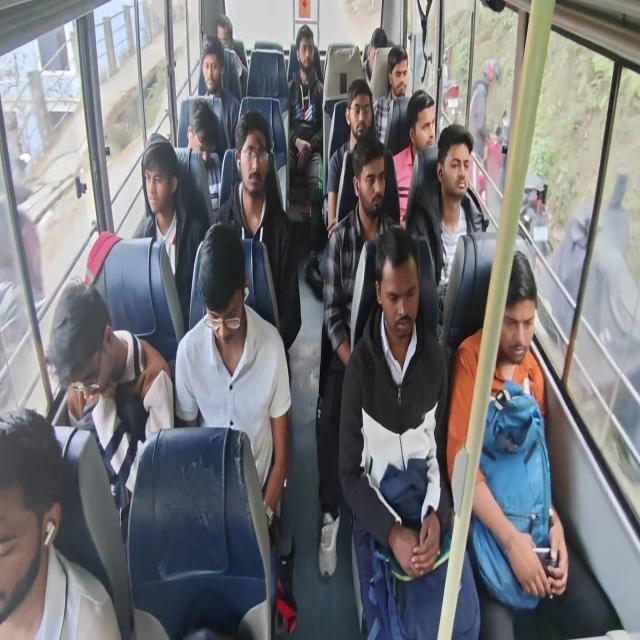person: (0, 423, 59, 588), (57, 310, 114, 406), (196, 259, 252, 352), (370, 249, 424, 339), (501, 272, 536, 360), (143, 136, 176, 211), (239, 136, 273, 198), (356, 156, 387, 217), (188, 118, 222, 171), (406, 96, 436, 153), (445, 134, 471, 199), (296, 30, 322, 77), (349, 92, 369, 138), (203, 55, 224, 93), (387, 62, 410, 96), (370, 36, 388, 76), (216, 25, 233, 52)
